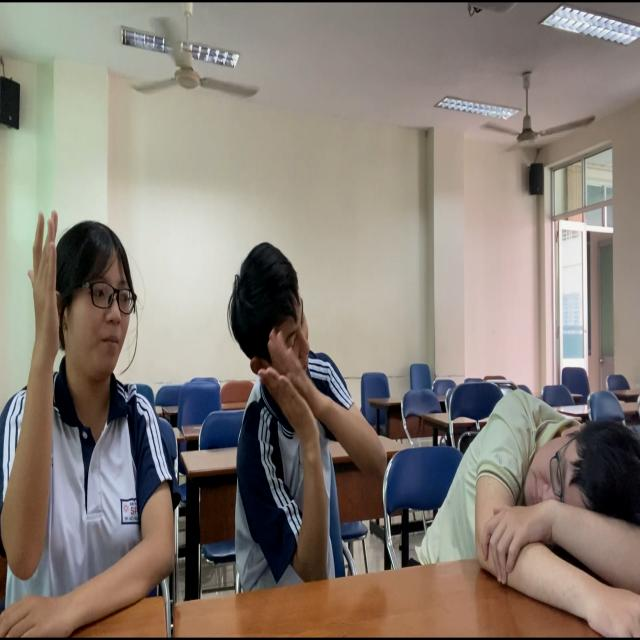raise_hand: (1, 204, 199, 640)
sleep: (418, 367, 640, 615)
